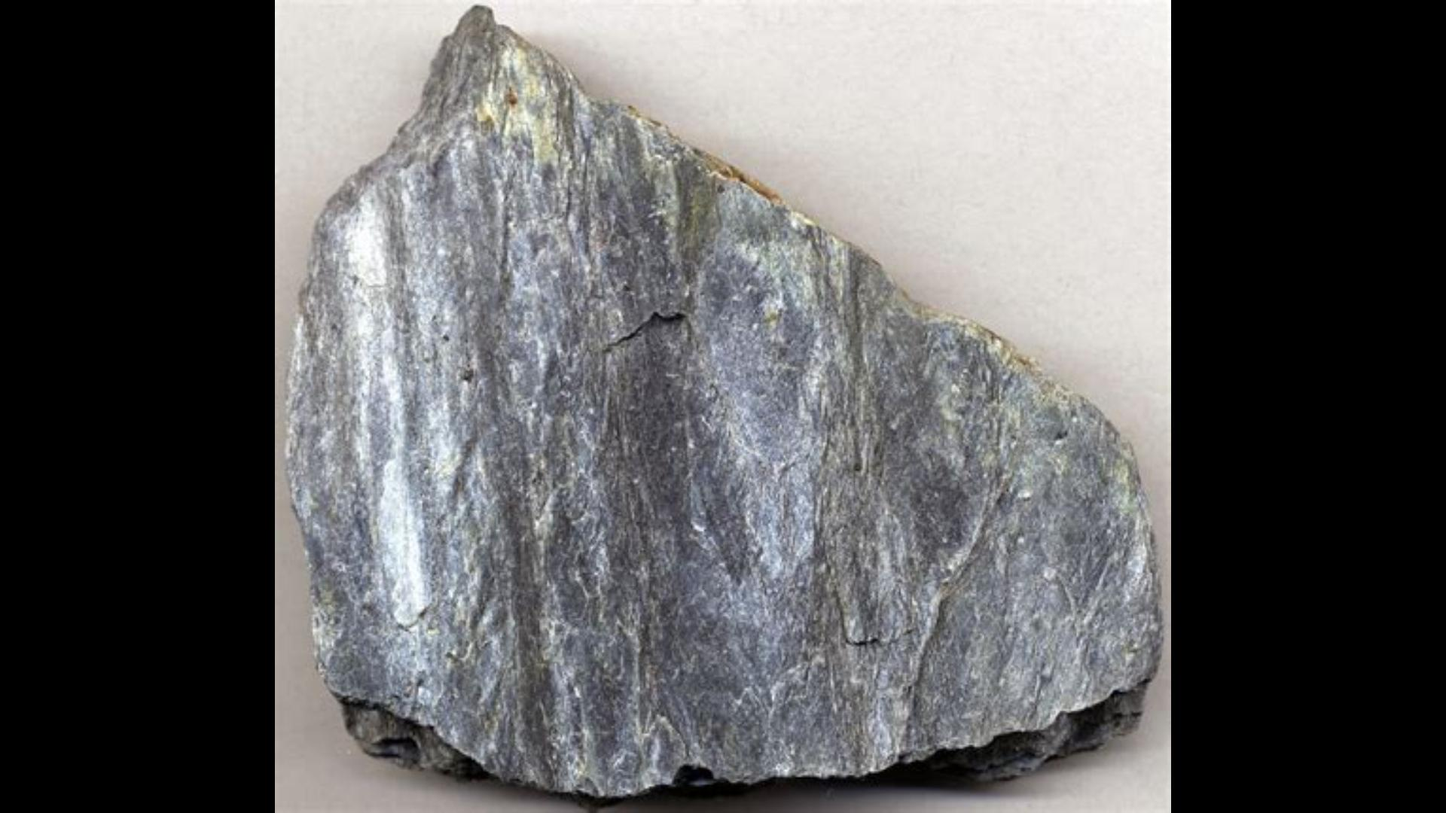rock: (286, 8, 1156, 796)
